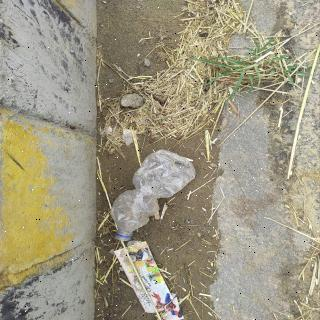Plastic-bottle: (108, 148, 199, 245)
